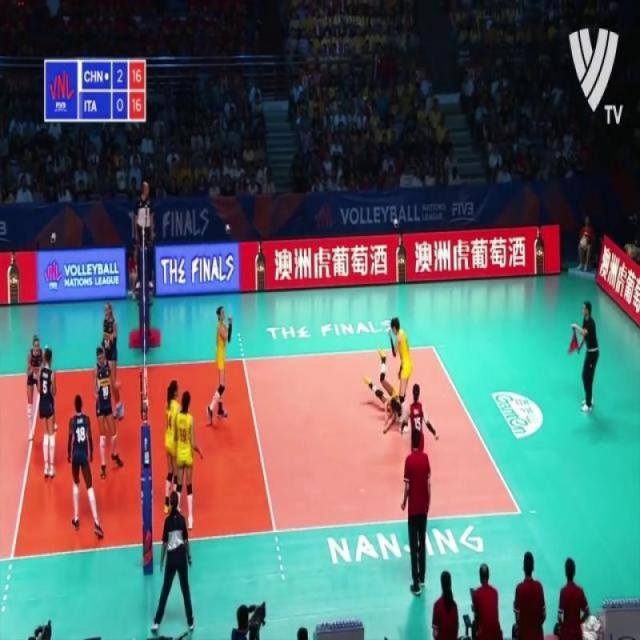volleyball: (627, 246, 634, 258)
